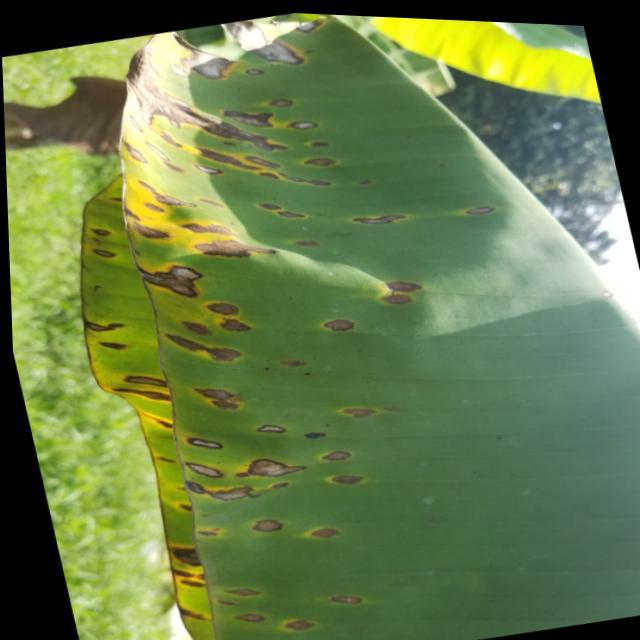Early_rust: (77, 0, 573, 640)
